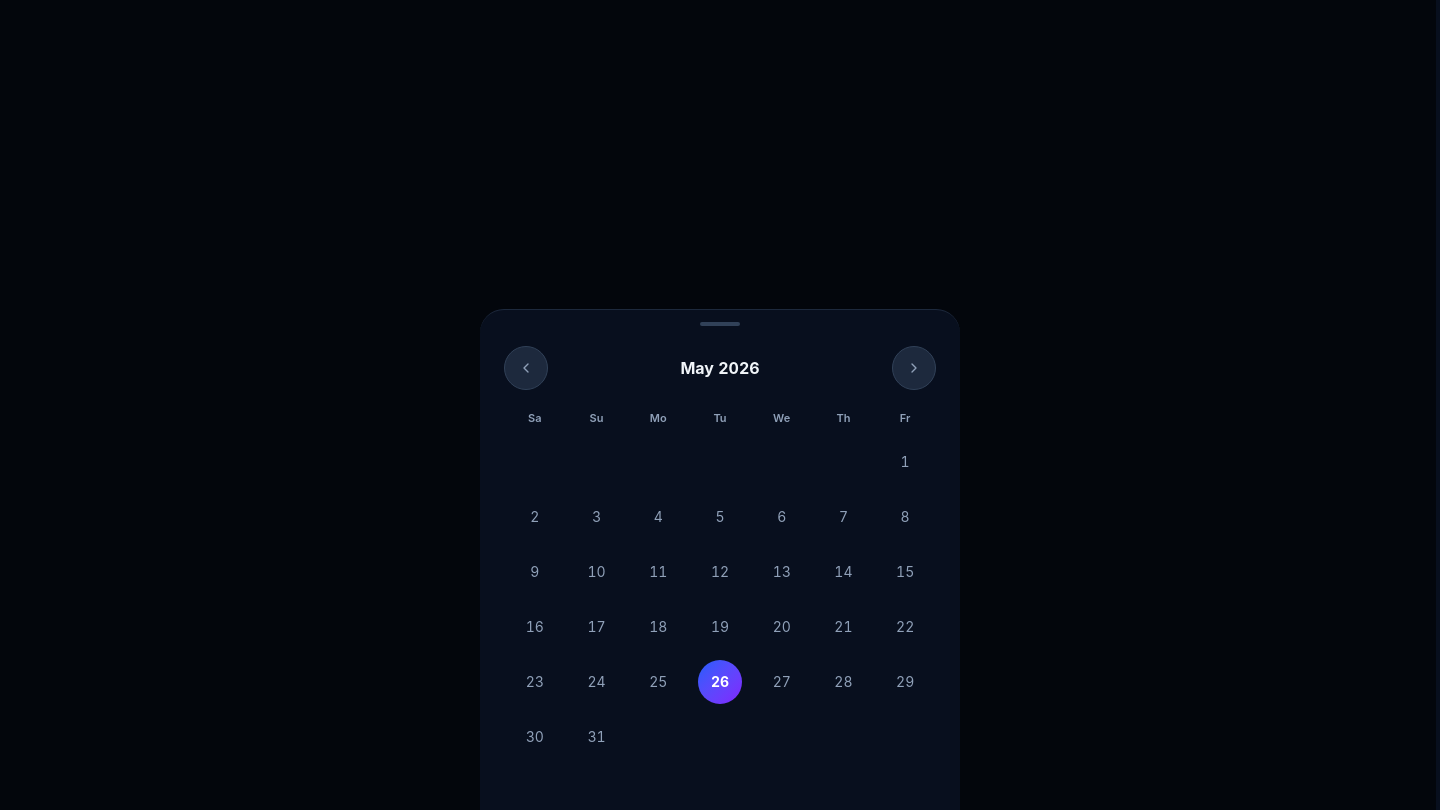
Scenario: DatePickerSheet › navigates to the previous month on prev-month click
The width and height of the screenshot is (1440, 810).
Click the button named "previous month". click: (526, 368)
box: [504, 346, 548, 390]
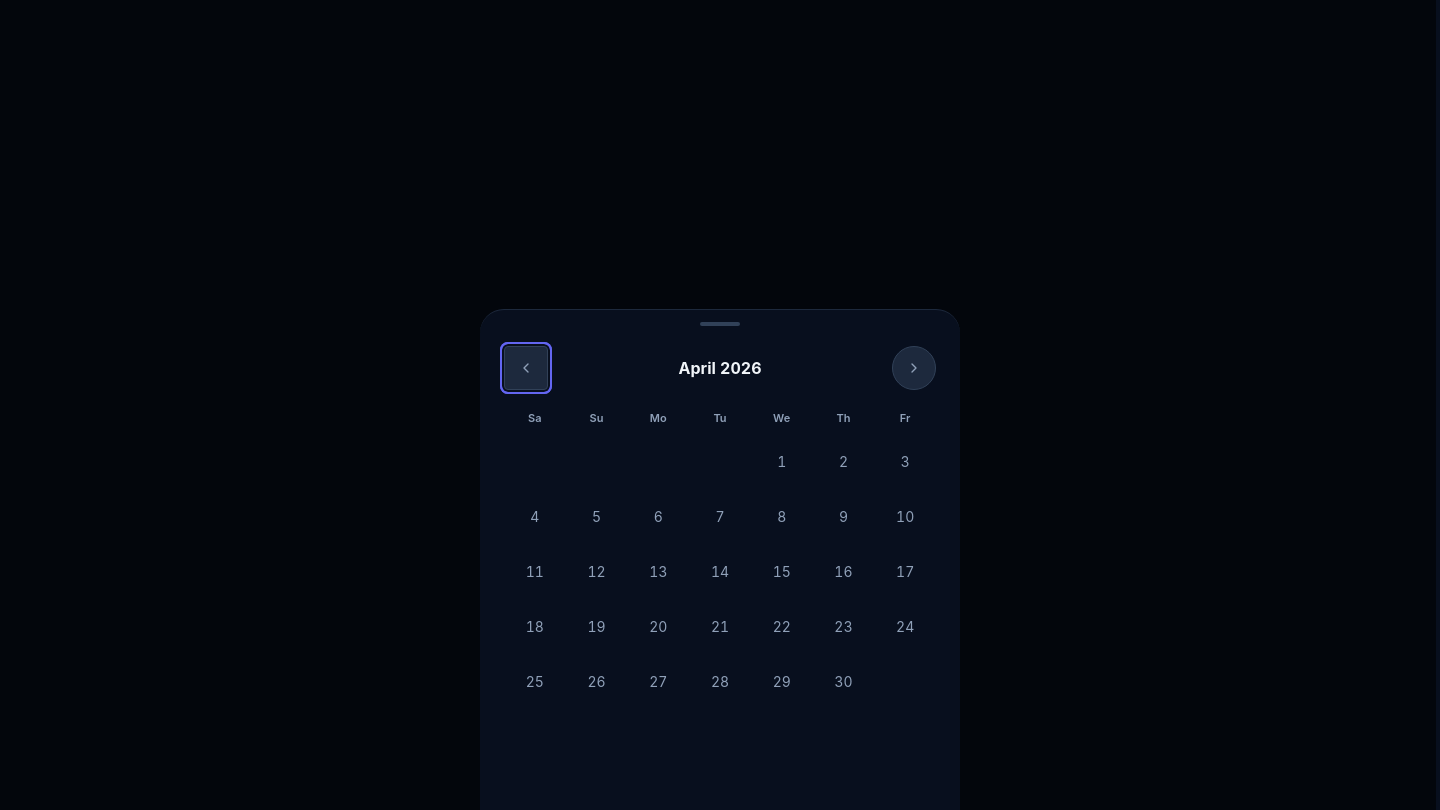
Expected: the text "April 2026" is shown, [678, 356, 762, 380]
